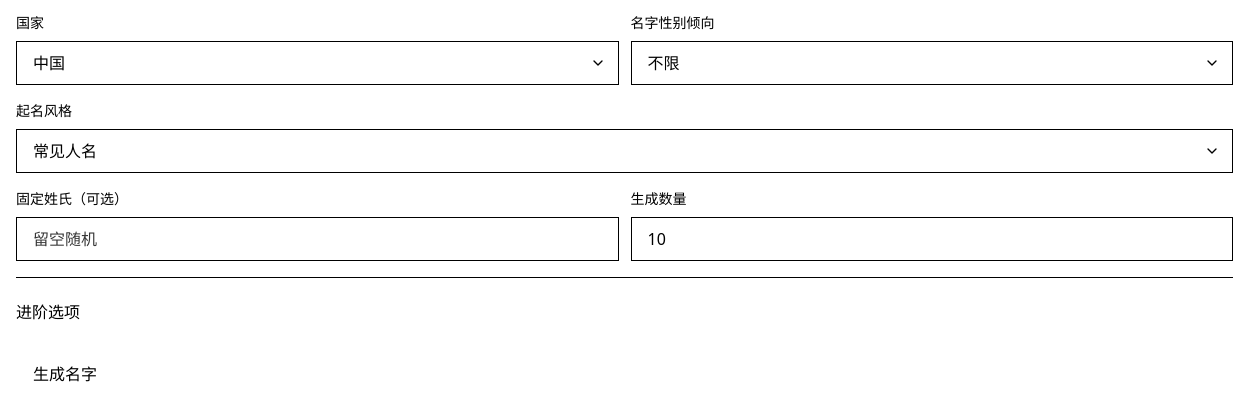
旧懒加载完成不能重新启用：collapse
This screenshot has width=1250, height=411.
Click the button "进阶选项": [48, 312] box [16,290,1233,334]
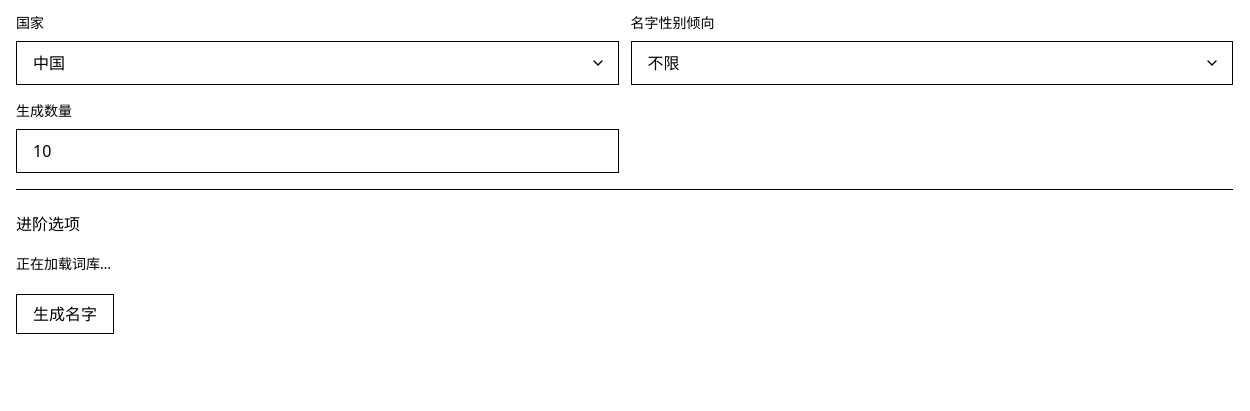
Check: the text "正在加载词库…" is shown, box [16,254,111,273]
Check: the button "生成名字" is disabled, box [16,294,114,334]
Click the button "进阶选项": [48, 224] box [16,202,1233,246]
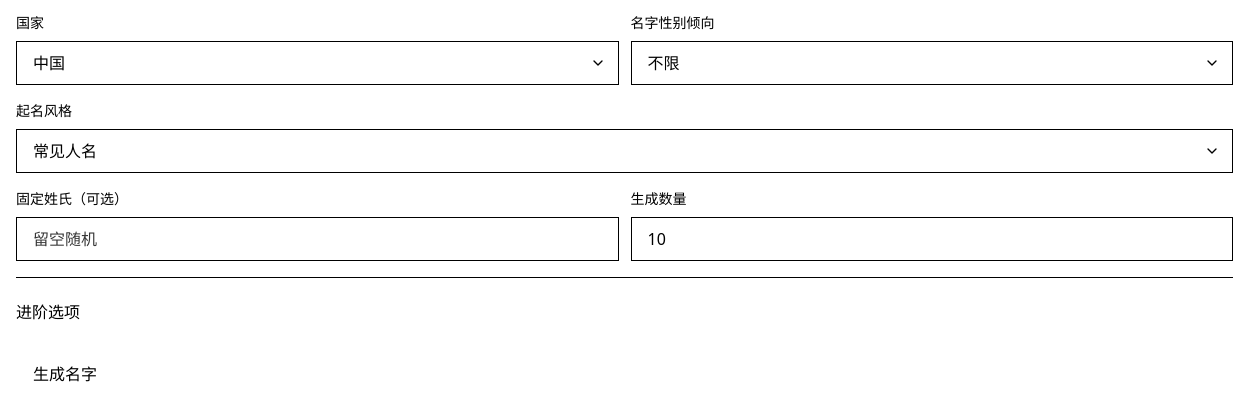
Check: the field labelled "固定姓氏（可选）" is shown, box [16,217,618,261]
Check: the button "生成名字" is enabled, box [16,354,114,394]
